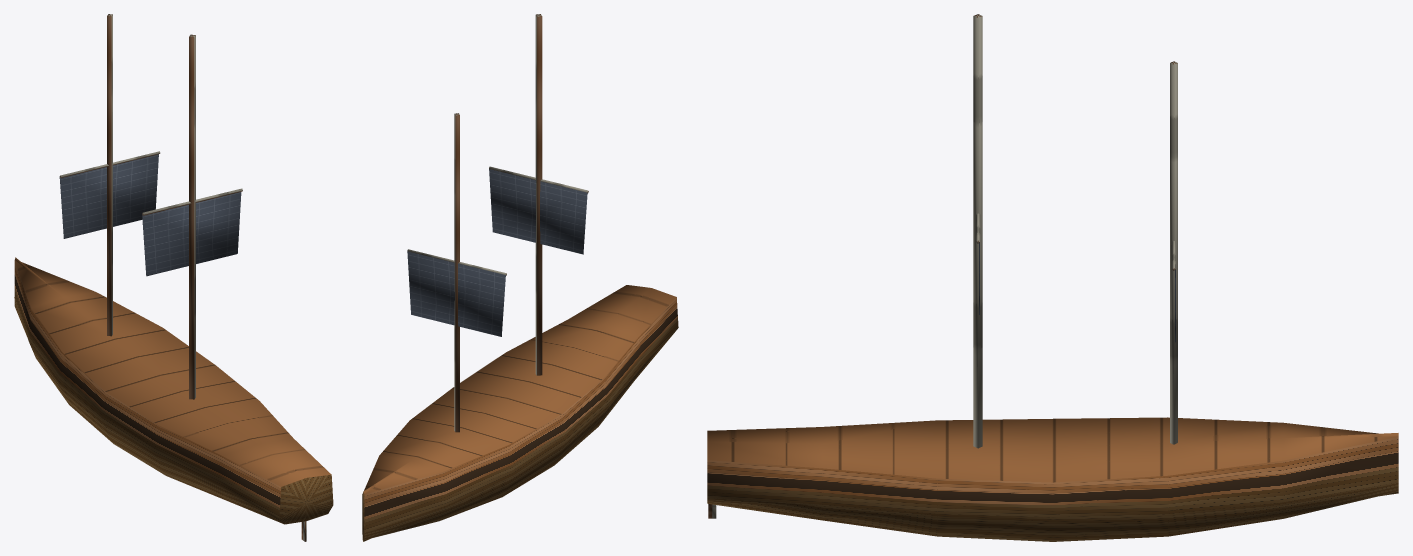
File: SHIP-M_LOD2.fbx
3 views of the same model, side by side, from view 1: azimuth 30°, elevation 25°; view 2: azimuth 150°, elevation 25°; view 3: azimuth 270°, elevation 25° (orthographic). The views are drawn at different scales.
Visible parts, largest first — view 1: Hull, Sails, Masts; view 2: Hull, Sails, Masts; view 3: Hull, Masts.
Part boxes in pixels (x1,y1,x2,y2): Hull: (14, 257, 333, 524); Sails: (59, 154, 241, 276); Masts: (59, 14, 306, 541); Hull: (362, 285, 678, 541); Sails: (407, 169, 587, 336); Masts: (407, 14, 588, 432); Hull: (707, 417, 1398, 541); Masts: (708, 14, 1177, 518).
Bounding box in the file's own units: 5.6 × 24 × 19.6.
